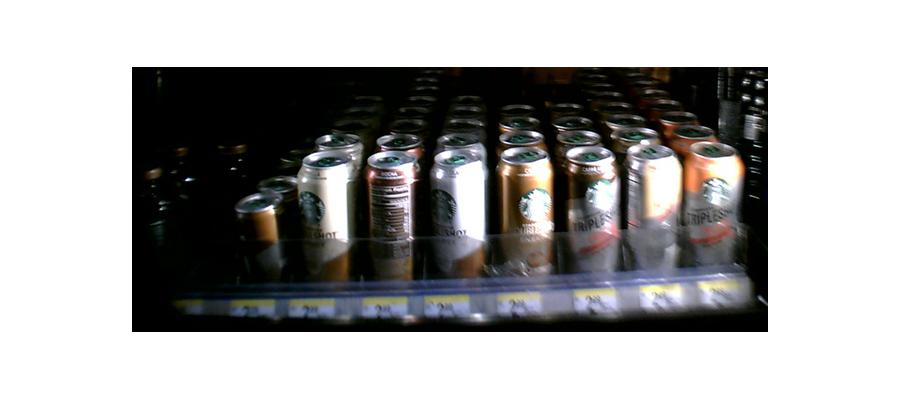bottle: (297, 146, 355, 286), (430, 143, 488, 283), (495, 141, 553, 280), (682, 141, 742, 272), (563, 144, 619, 283), (361, 149, 417, 286), (625, 143, 679, 278), (236, 178, 289, 284)
